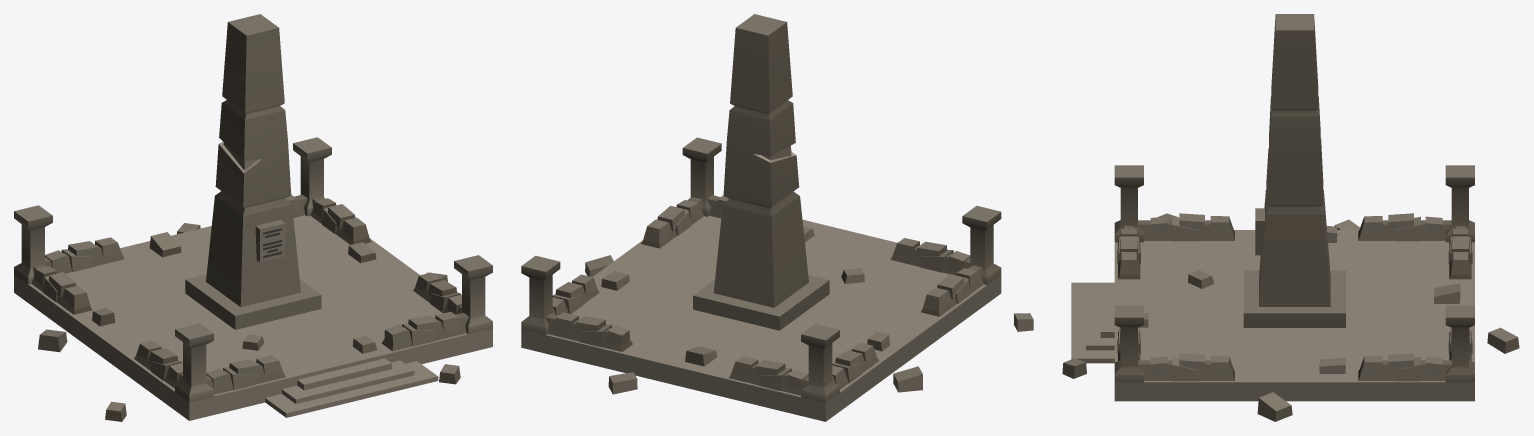
Rendered from Memorial.gltf.
3 renders of one model, left to right at view 1: azimuth 30°, elevation 25°; view 2: azimuth 150°, elevation 25°; view 3: azimuth 270°, elevation 25°, orthographic. The views are drawn at different scales.
Parts seen in each view (by area): view 1: SF_Env_Memorial_01; view 2: SF_Env_Memorial_01; view 3: SF_Env_Memorial_01.
Part boxes in pixels (bbox=[...]): SF_Env_Memorial_01: bbox=[14, 14, 492, 421]; SF_Env_Memorial_01: bbox=[521, 14, 1033, 421]; SF_Env_Memorial_01: bbox=[1062, 14, 1519, 421].
Bounding box in the file's own units: 0.1142 × 0.0824 × 0.1112.
1 material, 1 textured.
